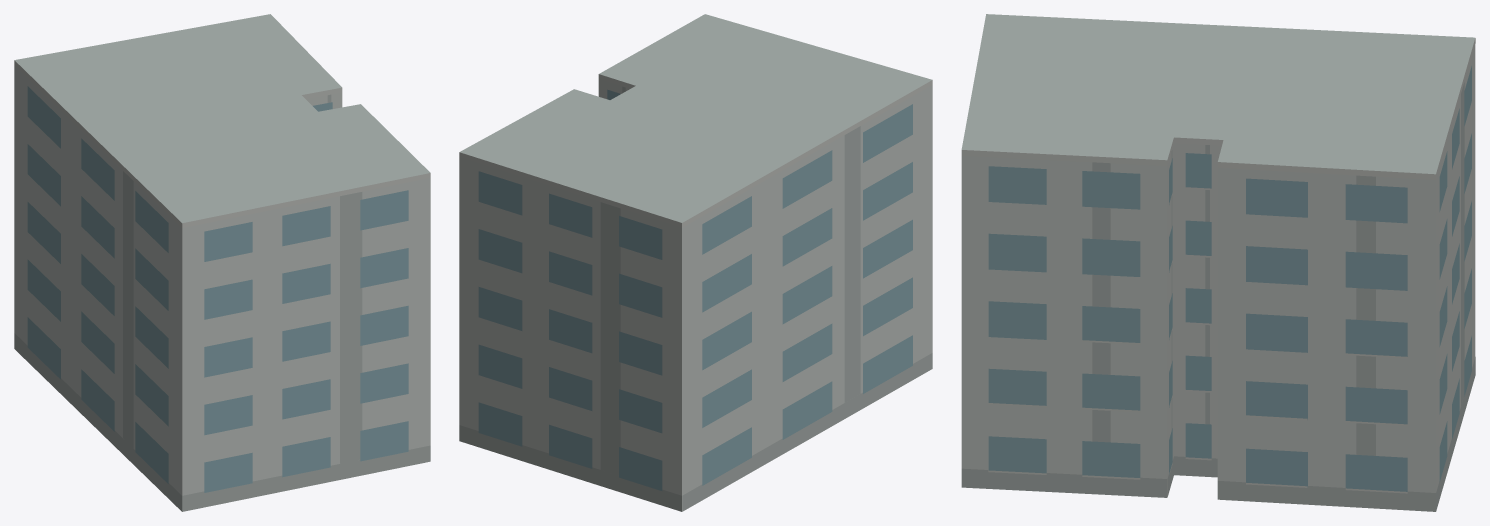
The model's file is survey-upis-32808457.glb.
3 views of the same model, side by side, from view 1: azimuth 30°, elevation 25°; view 2: azimuth 150°, elevation 25°; view 3: azimuth 270°, elevation 25° (orthographic). The views are drawn at different scales.
Visible parts, largest first — view 1: survey-upis-32808457.tmp; view 2: survey-upis-32808457.tmp; view 3: survey-upis-32808457.tmp.
Boxes of the visible parts, <box> form: survey-upis-32808457.tmp: <box>14,14,430,511</box>; survey-upis-32808457.tmp: <box>459,14,932,511</box>; survey-upis-32808457.tmp: <box>961,14,1475,511</box>.
Bounding box in the file's own units: 14.39 × 14.13 × 19.5.
